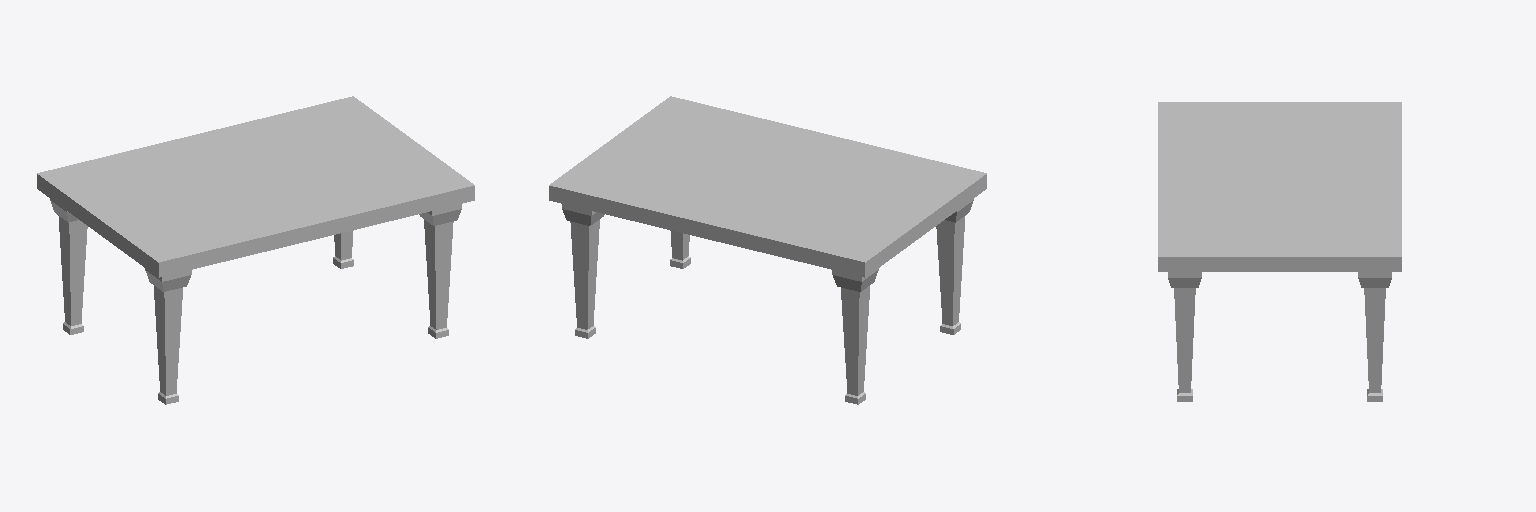
File: NewTable.obj
3 renders of one model, left to right at view 1: azimuth 30°, elevation 25°; view 2: azimuth 150°, elevation 25°; view 3: azimuth 270°, elevation 25°, orthographic.
Parts seen in each view (by area): view 1: Cube_Cube.001; view 2: Cube_Cube.001; view 3: Cube_Cube.001.
Part boxes in pixels (x1,y1,x2,y2): Cube_Cube.001: (37,96,474,404); Cube_Cube.001: (549,96,986,404); Cube_Cube.001: (1158,102,1401,401).
Bounding box in the file's own units: 7.5 × 3.47 × 5.